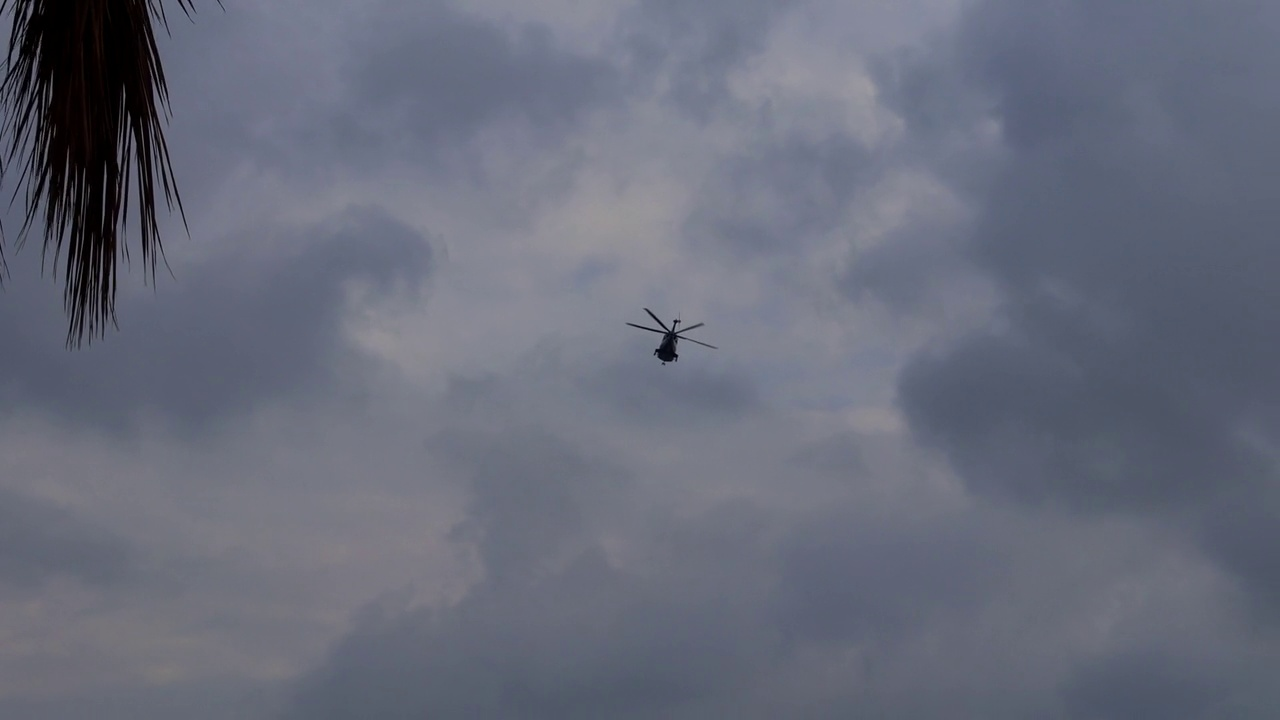heli: (627, 306, 719, 364)
